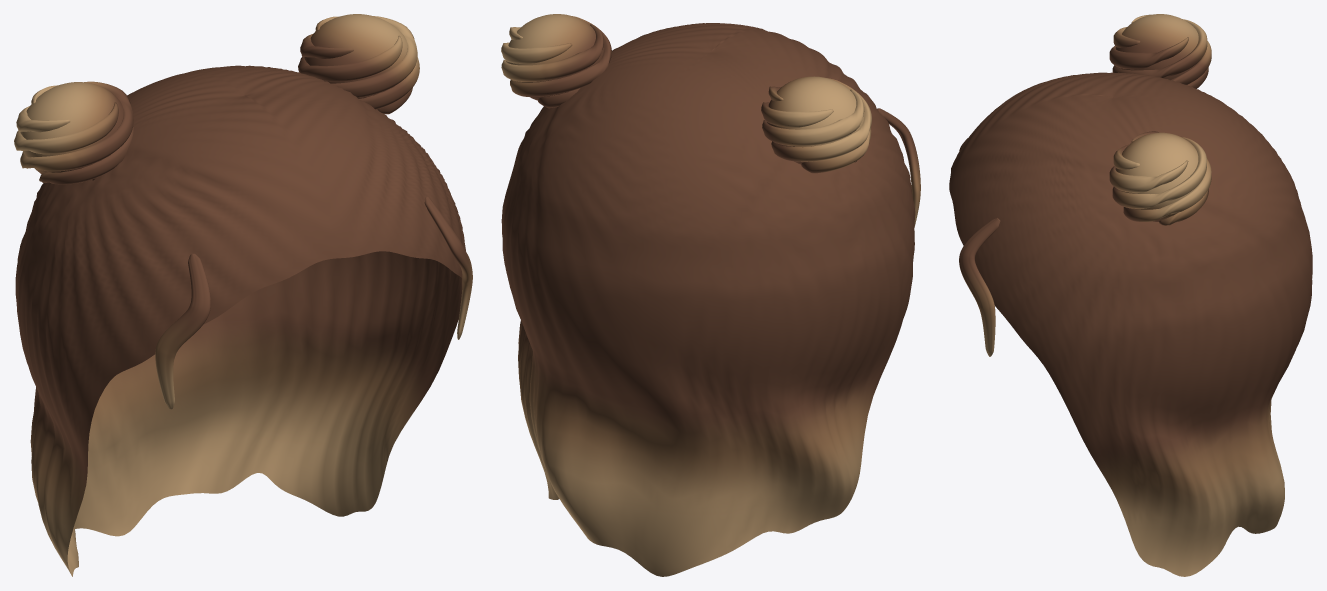
File: space-buns-none-ombre.glb
3 renders of one model, left to right at view 1: azimuth 30°, elevation 25°; view 2: azimuth 150°, elevation 25°; view 3: azimuth 270°, elevation 25°, orthographic. The views are drawn at different scales.
Visible parts, largest first — view 1: 226 hair / Hair / chestnut226; view 2: 226 hair / Hair / chestnut226; view 3: 226 hair / Hair / chestnut226.
Part boxes in pixels (bbox=[...]): 226 hair / Hair / chestnut226: bbox=[14, 14, 472, 576]; 226 hair / Hair / chestnut226: bbox=[501, 14, 920, 576]; 226 hair / Hair / chestnut226: bbox=[949, 14, 1312, 576].
Size of the model in its own units: 0.8048 by 1.01 by 0.7316.
1 material, 1 textured.
